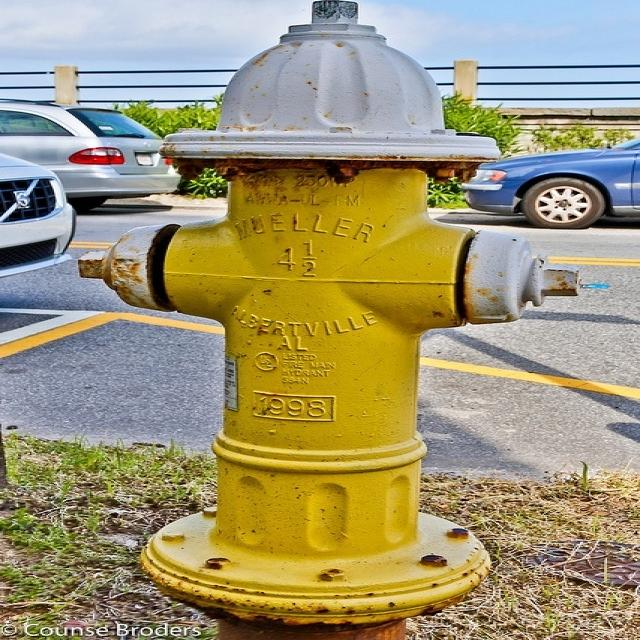fire_hydrant: (94, 24, 589, 623)
